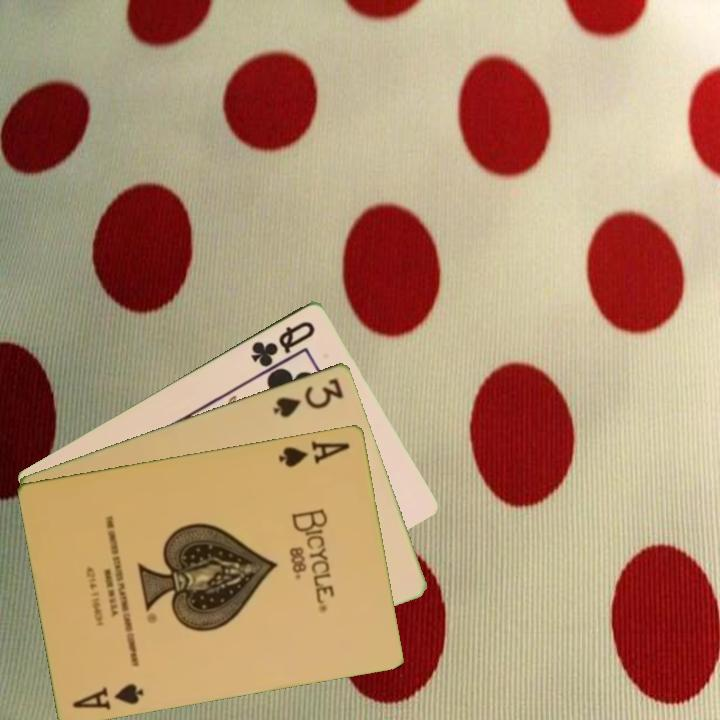3s: (269, 374, 347, 420)
As: (275, 436, 353, 470), (69, 679, 147, 713)
Qc: (247, 316, 319, 370)
